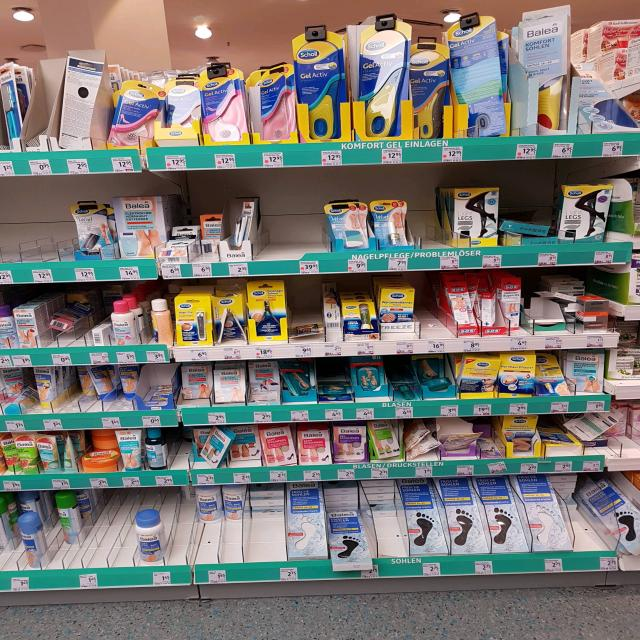void: (88, 491, 128, 586), (0, 188, 33, 282), (36, 189, 69, 282), (259, 191, 293, 272), (296, 188, 324, 273), (416, 277, 444, 355)
